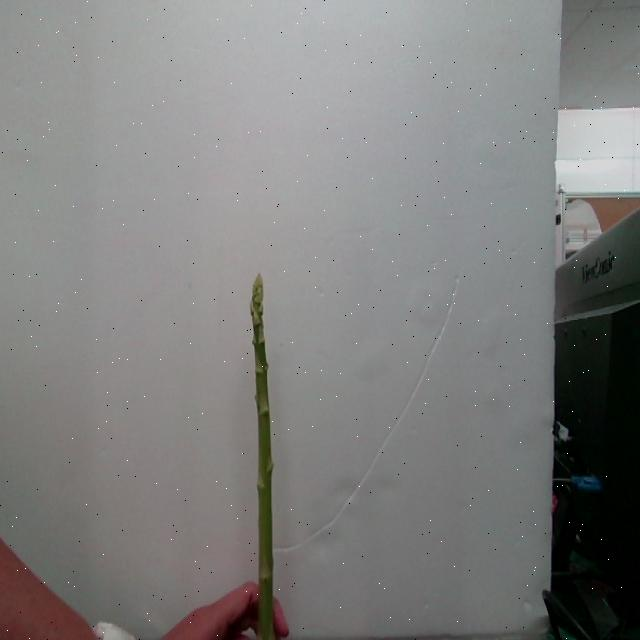aspargus: (251, 276, 288, 640)
